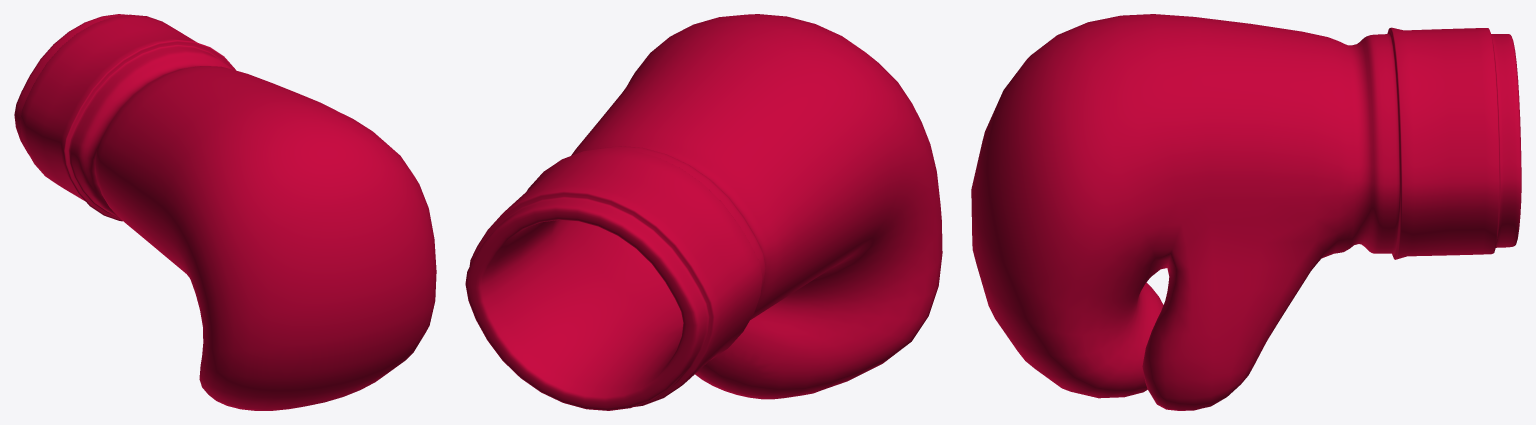
File: L_Boxing_hand.fbx
3 renders of one model, left to right at view 1: azimuth 30°, elevation 25°; view 2: azimuth 150°, elevation 25°; view 3: azimuth 270°, elevation 25°, orthographic. The views are drawn at different scales.
Parts seen in each view (by area): view 1: Boxing_Glove; view 2: Boxing_Glove; view 3: Boxing_Glove.
Boxes of the visible parts, box(x1,y1,x2,y2) form: Boxing_Glove: box(14, 14, 436, 410); Boxing_Glove: box(465, 14, 942, 410); Boxing_Glove: box(971, 14, 1521, 410).
Size of the model in its own units: 13.61 by 15.93 by 23.12.
